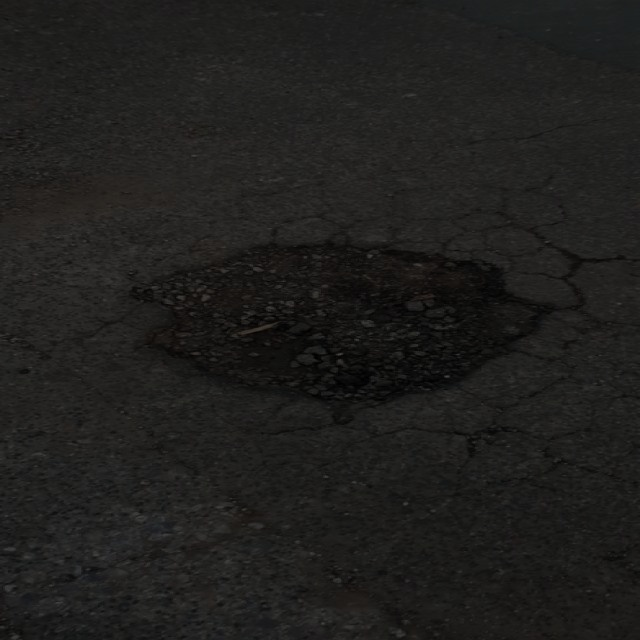Pothole: (111, 233, 562, 424)
